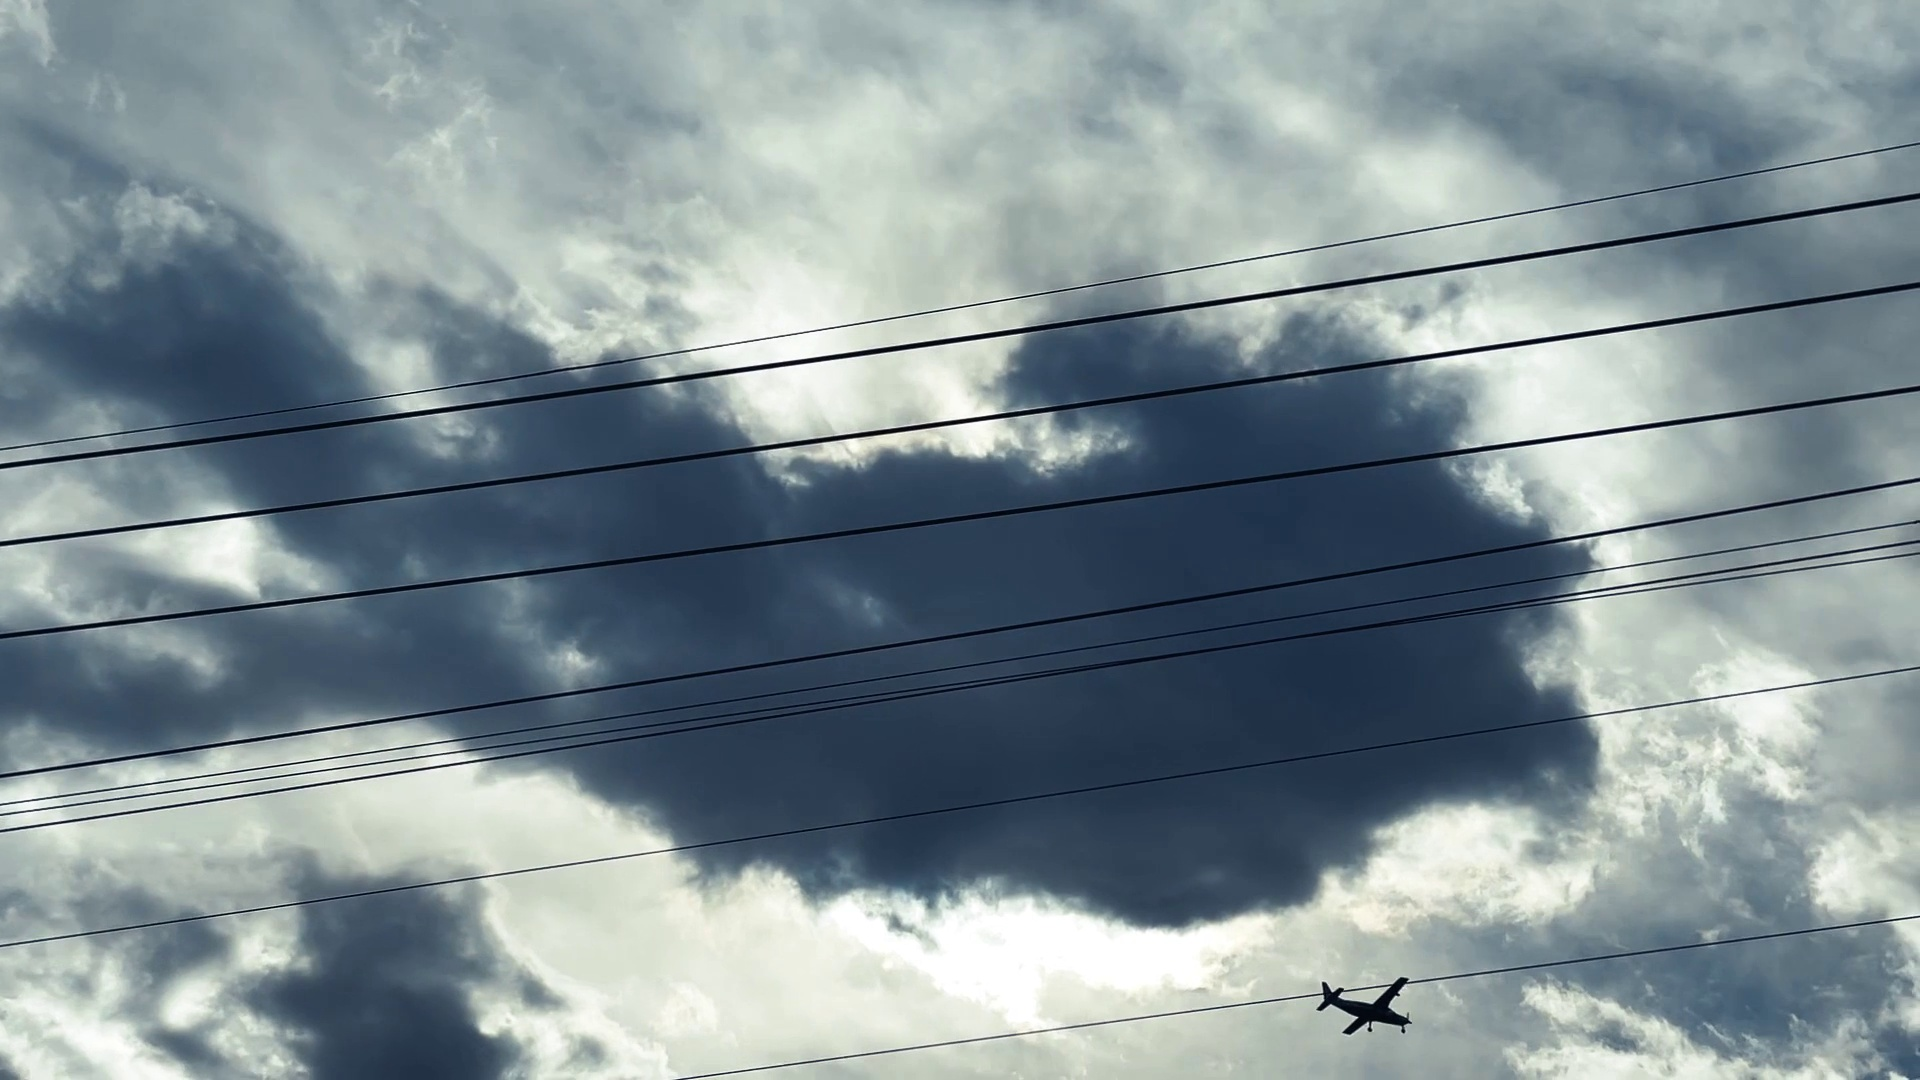plane: (1317, 976, 1411, 1035)
